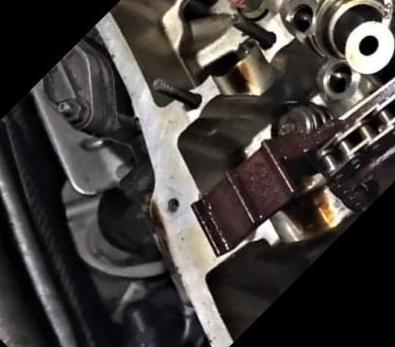hole: (162, 193, 183, 214)
